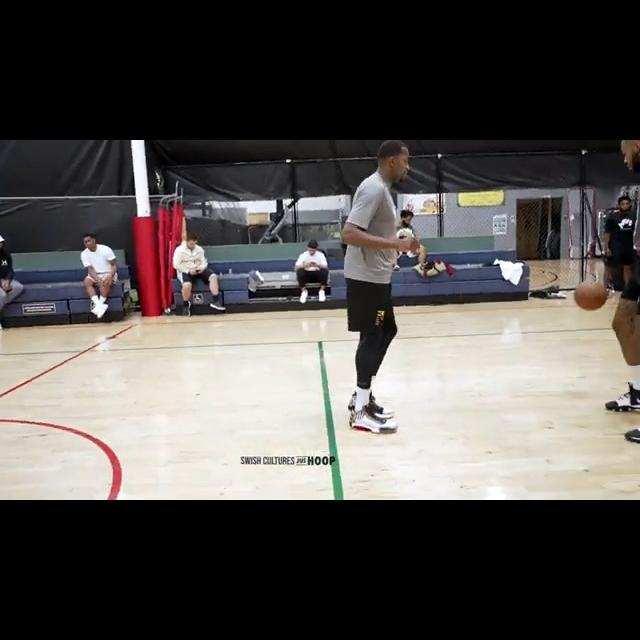basketball: (574, 281, 607, 312)
person: (341, 140, 422, 437), (604, 140, 640, 445), (164, 227, 232, 319), (79, 233, 125, 322), (607, 192, 640, 301), (292, 238, 333, 306), (0, 233, 25, 335), (391, 210, 430, 275)
